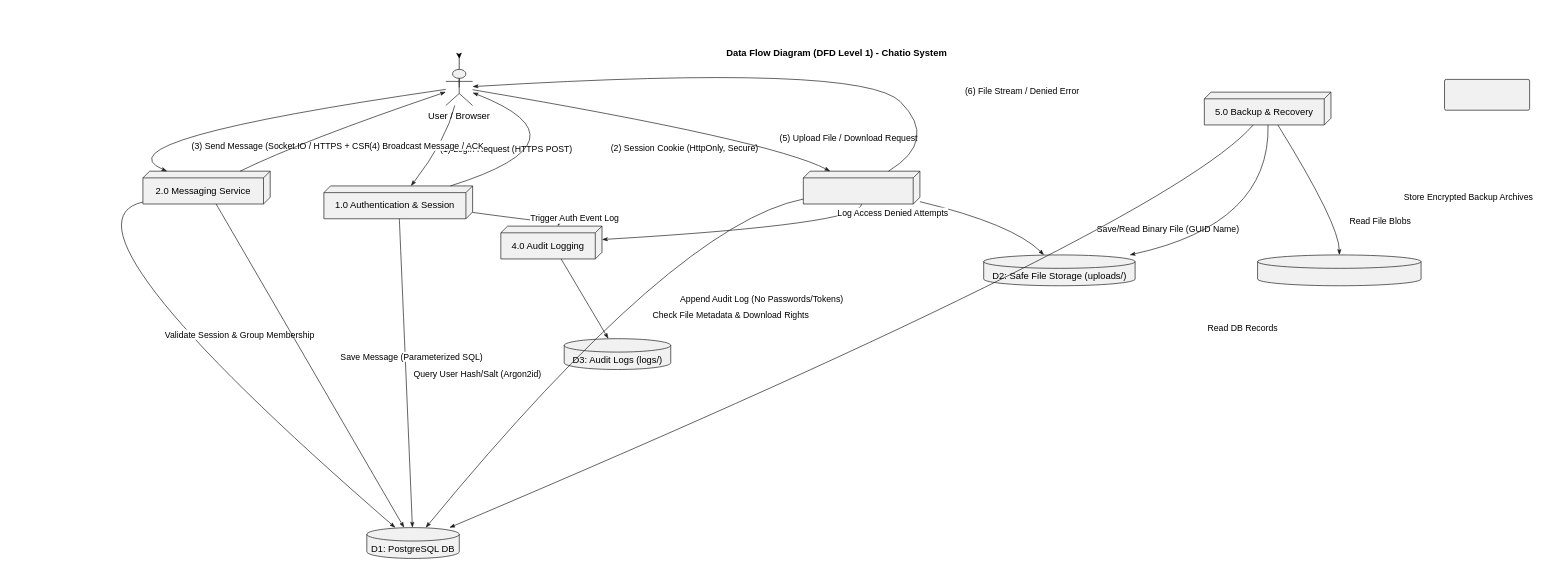
This 1544x570 diagram has some shape labels left out. The shapes that lost their labels are listed below. From the top down, each one's centre as x and y in pixels, then its label:
At point (1487, 94): "TRUST BOUNDARY (Client / Server)".
At point (861, 187): "3.0 File Management".
At point (1339, 270): "D4: Encrypted Backups (backups/)".
